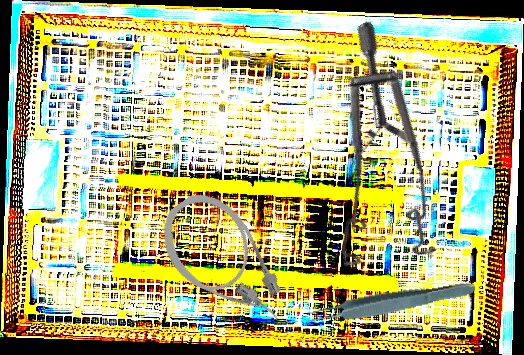Cannula: (146, 179, 301, 351)
Speculum: (239, 19, 495, 297)
Tissue Forceps: (303, 276, 477, 329)
